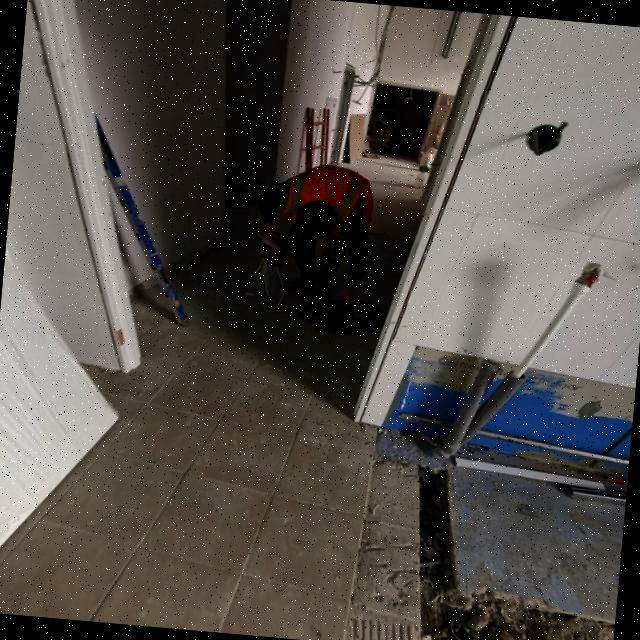NoHelmet: (294, 199, 344, 245)
